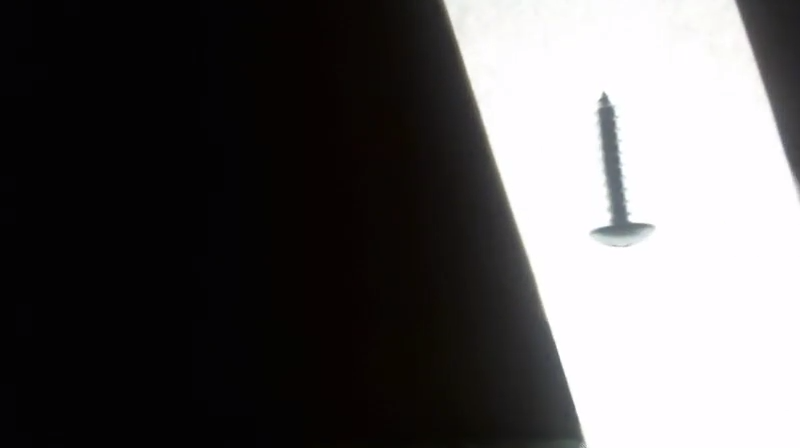S003: (584, 90, 658, 250)
